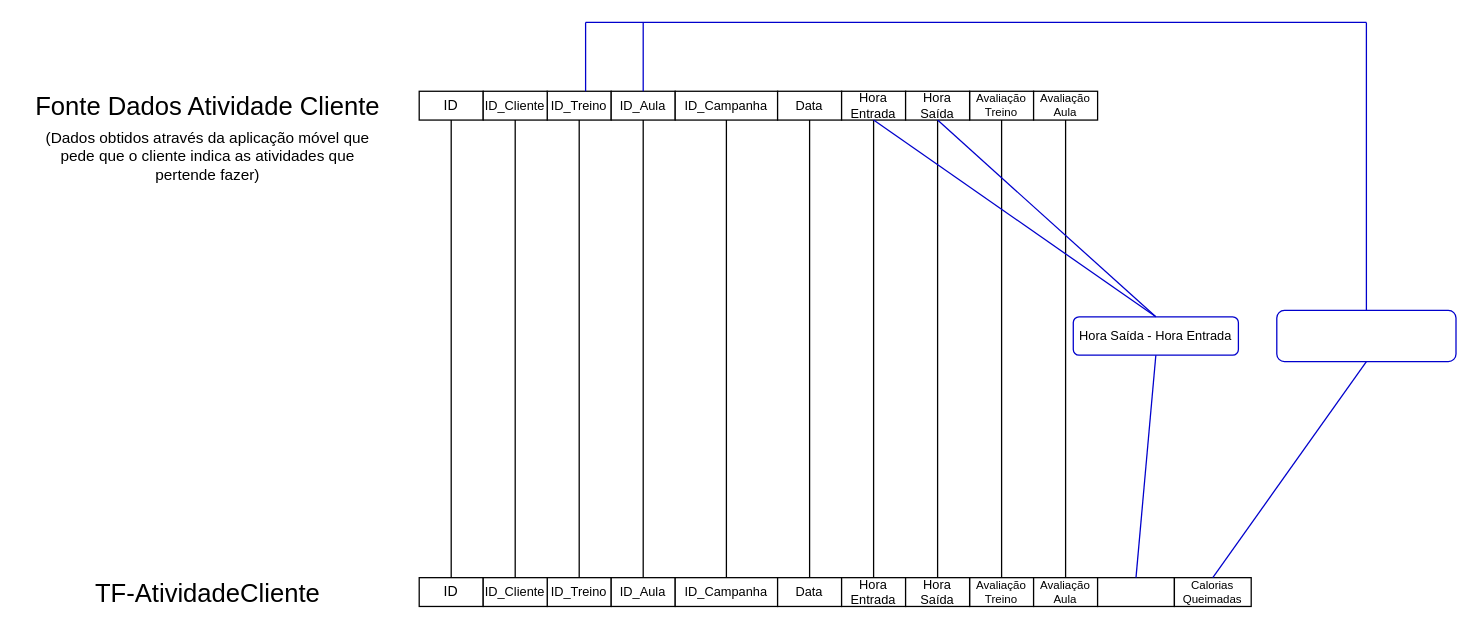
Image size: 1478x634. Some labels were removed from this diagram. Here are the shapes that lost their labels. From the top down, the centre of each, then its label:
pixel 1366 335: Calorias Queimadas Aula + Calorias Queimadas Treino
pixel 1135 591: Tempo Permanência
